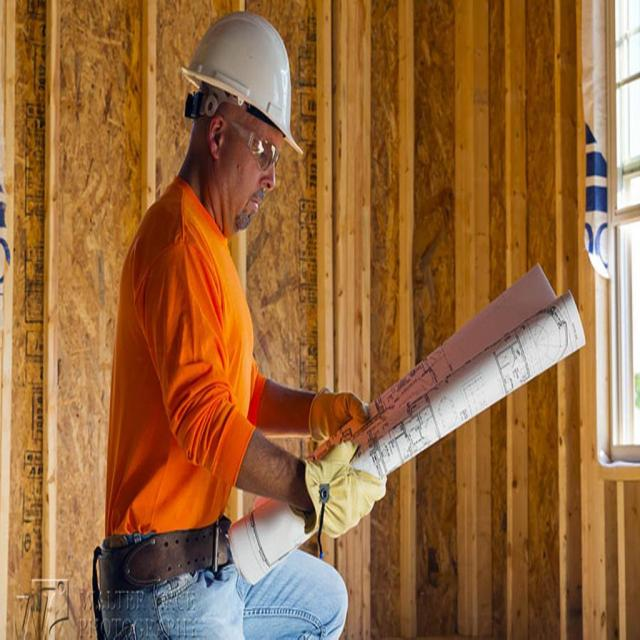Face: (218, 88, 285, 241)
